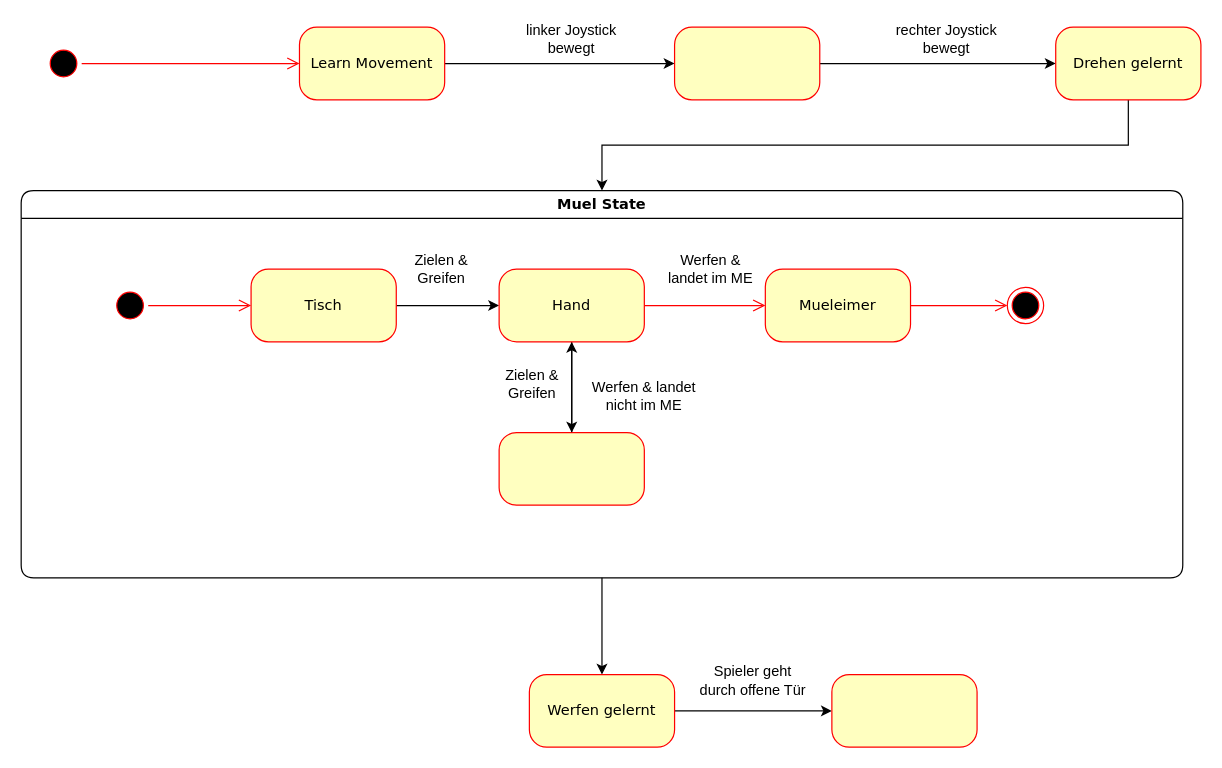
This 1222x768 diagram has some shape labels left out. Here are the shapes that lost their labels. From the top down, the box of each, then its label:
(673, 26, 820, 100): Bewegung gelernt
(498, 431, 644, 505): nicht Hand
(831, 673, 977, 747): Nächster Raum
